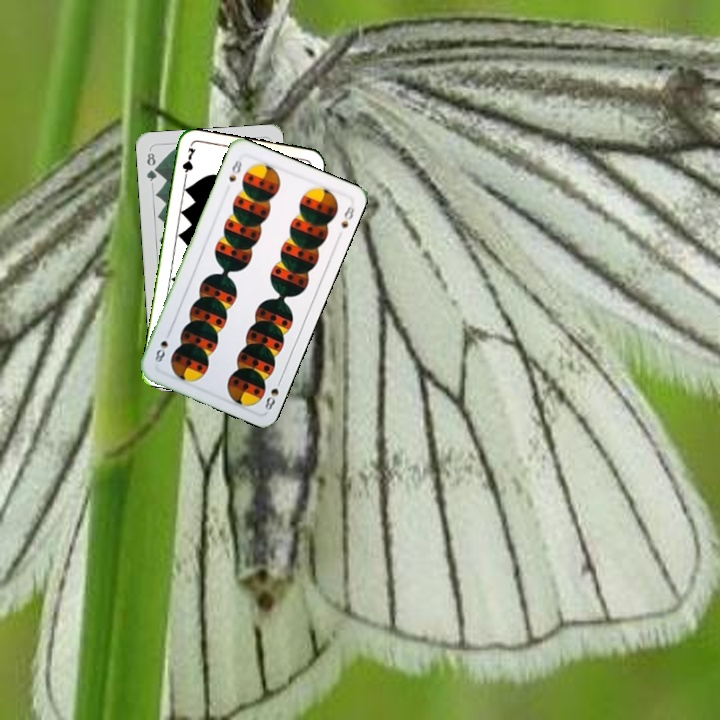G7: (178, 143, 198, 184)
G8: (143, 148, 160, 184)
S8: (261, 374, 285, 413), (225, 156, 245, 184)
